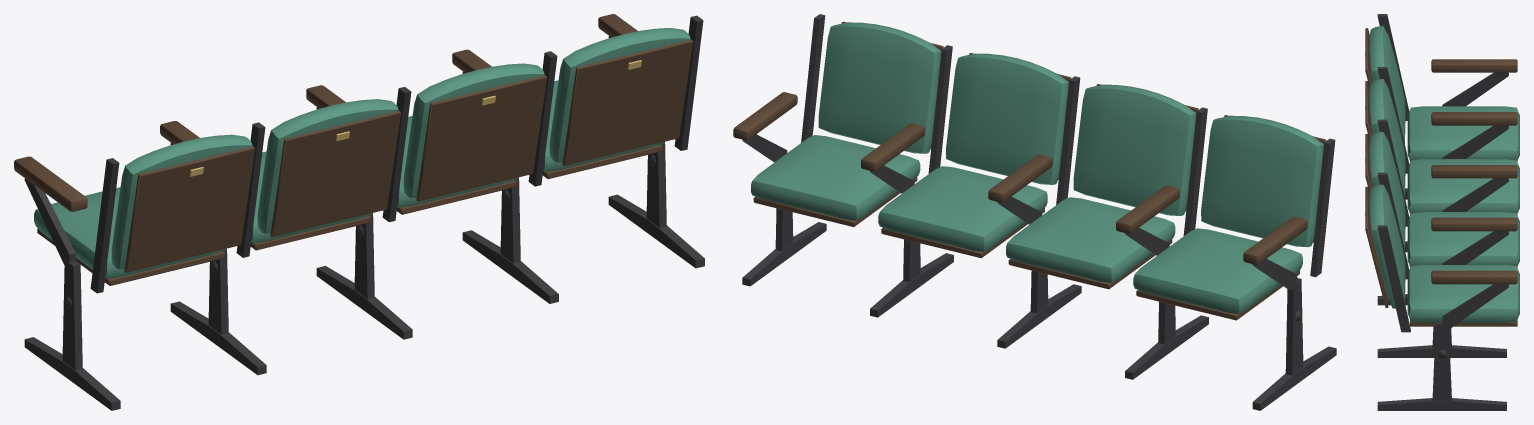
File: tea_fila.fbx
3 renders of one model, left to right at view 1: azimuth 30°, elevation 25°; view 2: azimuth 150°, elevation 25°; view 3: azimuth 270°, elevation 25°, orthographic. The views are drawn at different scales.
Visible parts, largest first — view 1: tea_fila_legno, tea_fila_ferro, tea_fila_velluto; view 2: tea_fila_velluto, tea_fila_ferro, tea_fila_legno; view 3: tea_fila_velluto, tea_fila_ferro, tea_fila_legno.
Boxes of the visible parts, x1,y1,x2,y2 form: tea_fila_legno: (14,14,692,285); tea_fila_ferro: (24,15,704,410); tea_fila_velluto: (34,28,690,278); tea_fila_velluto: (751,22,1323,313); tea_fila_ferro: (742,14,1336,410); tea_fila_legno: (733,21,1326,320); tea_fila_velluto: (1369,26,1519,322); tea_fila_ferro: (1377,14,1508,410); tea_fila_legno: (1365,28,1517,326).
Size of the model in its own units: 2.39 by 0.9467 by 0.7177.
